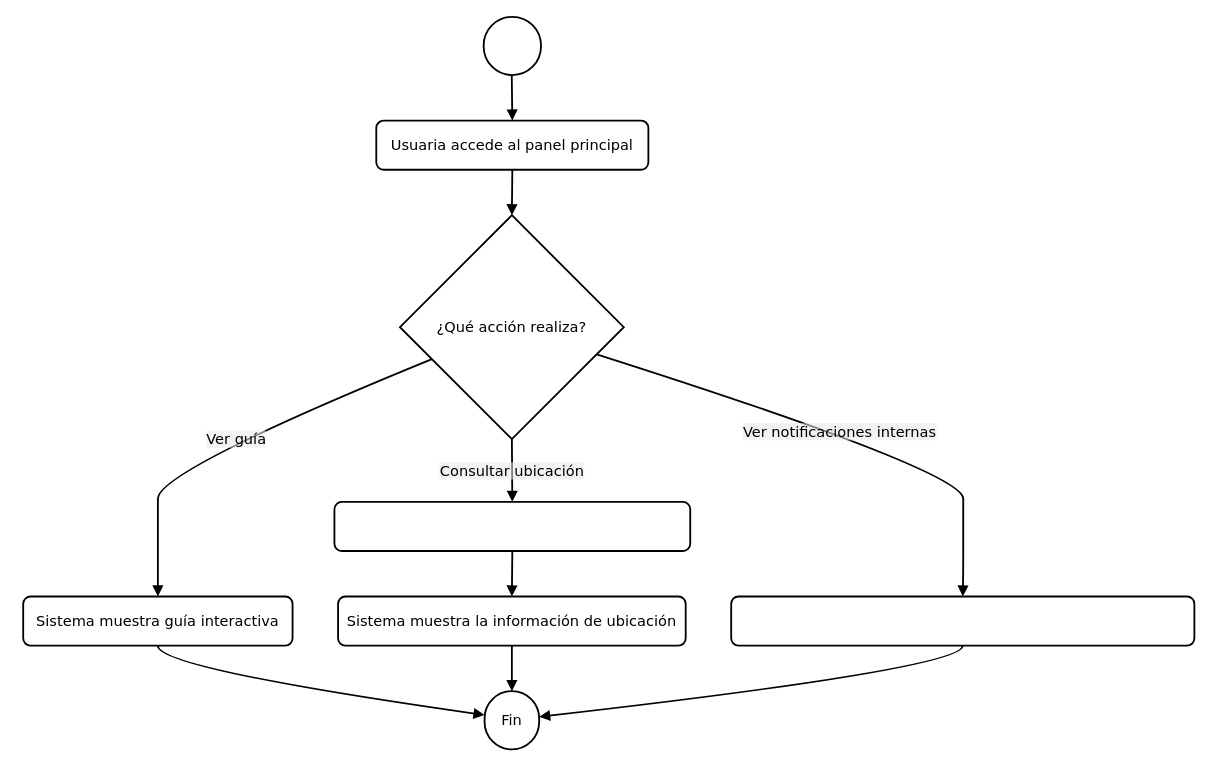
This 1210x774 diagram has some shape labels left out. Each missing label, with the box of its shape:
Inicio: (482, 15, 541, 76)
Sistema consulta ubicación actual o frecuente: (333, 500, 691, 551)
Sistema muestra recordatorios, advertencias o actualizaciones: (730, 595, 1195, 646)
